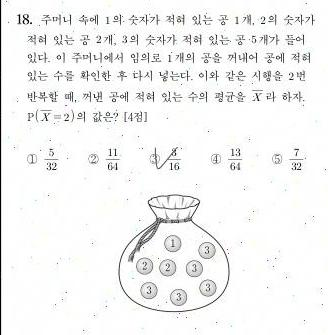choice: (148, 150, 165, 171)
not-choice: (270, 152, 284, 166), (25, 152, 38, 165), (86, 152, 99, 165), (209, 153, 222, 166)
